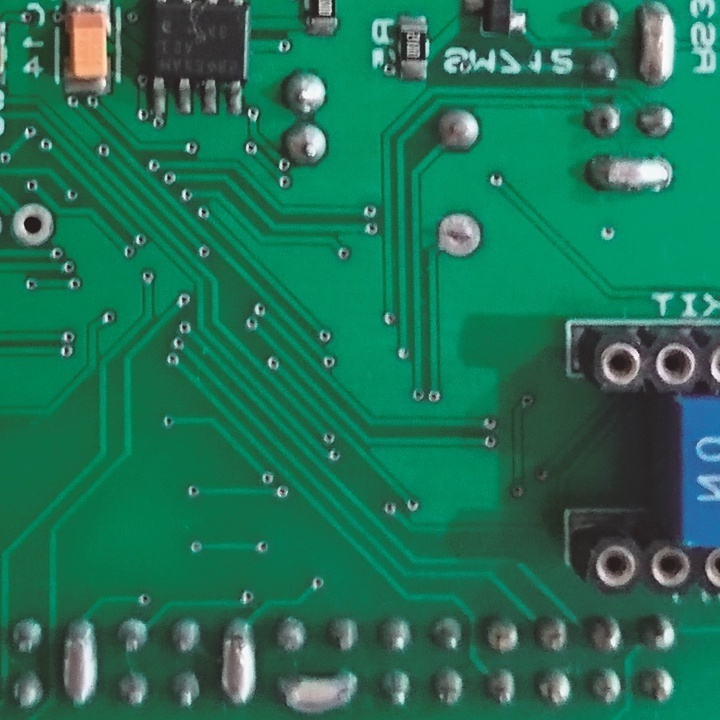F: (436, 209, 481, 262), (9, 203, 56, 249)
P: (273, 664, 364, 716), (59, 614, 105, 711), (586, 149, 677, 197), (637, 1, 678, 95), (220, 615, 260, 711)
